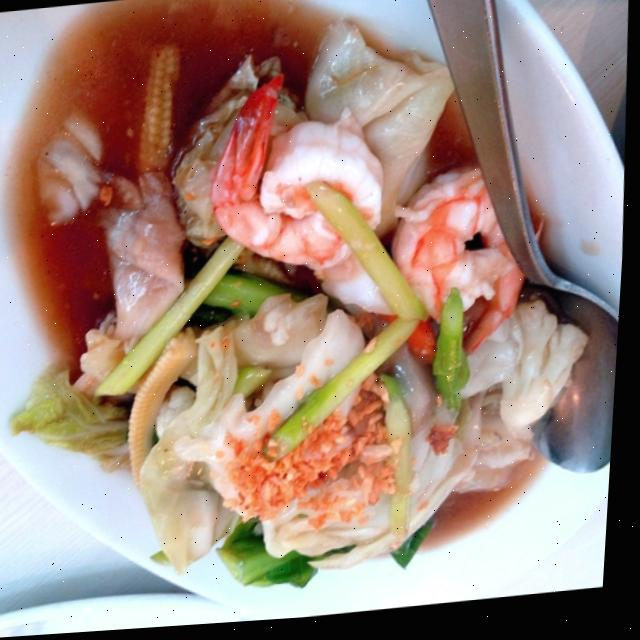蔬菜料理: (0, 0, 607, 603)
